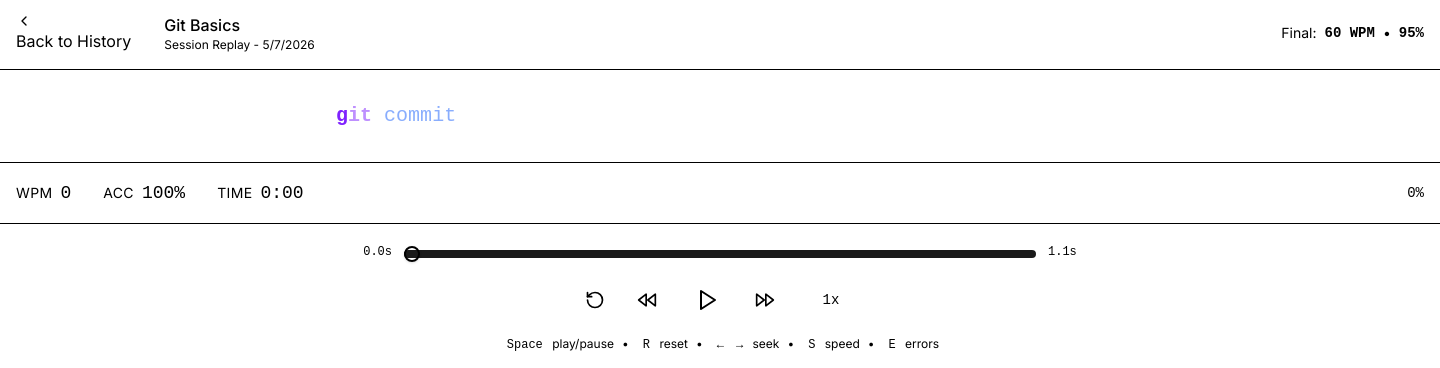
Test case: SessionReplay › playback controls › should toggle play/pause on button click
Click the button titled "Play (Space)" at [706, 300], box [681, 276, 731, 324]
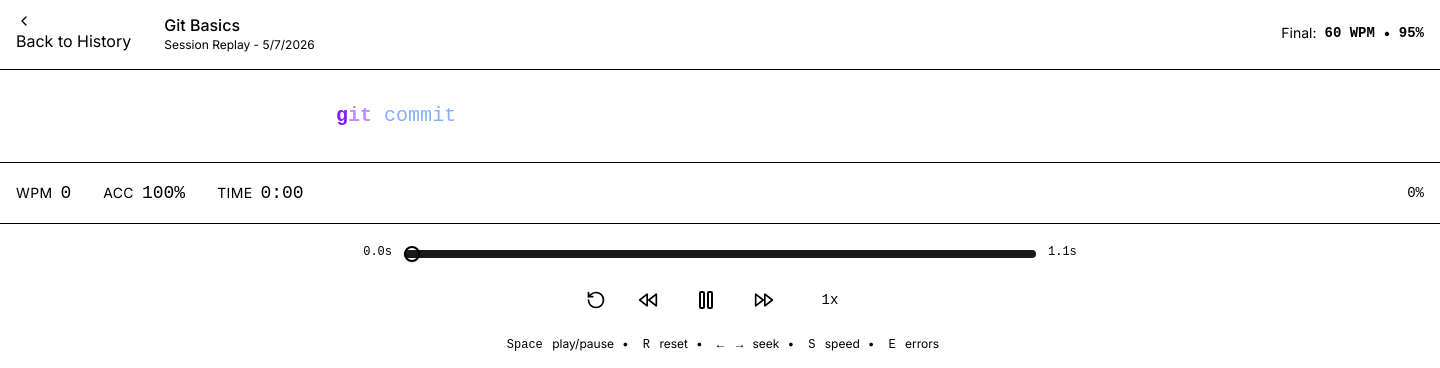
Expected: the button titled "Pause (Space)" is shown
Click the button titled "Pause (Space)" at [706, 300], box [682, 276, 730, 324]
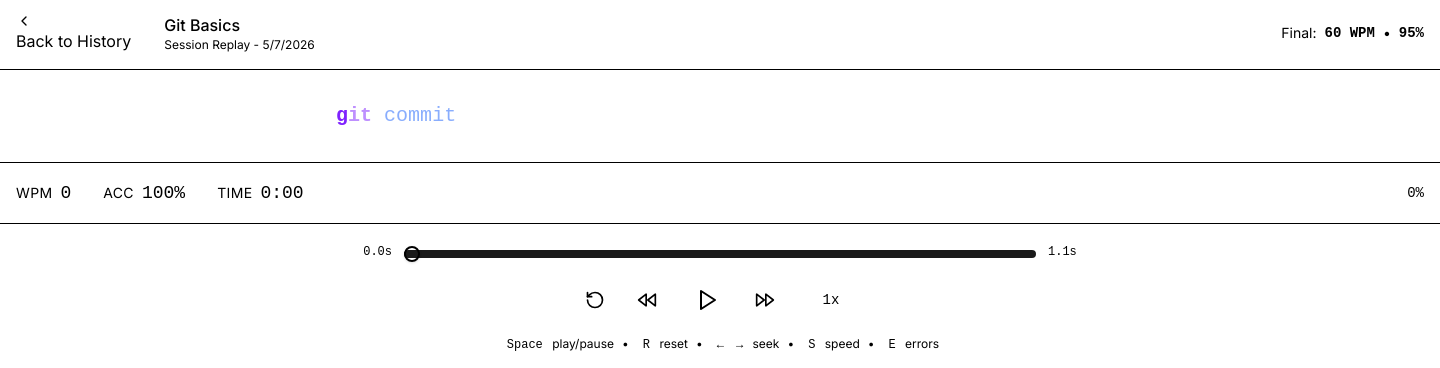
Expected: the button titled "Play (Space)" is shown, [681, 276, 731, 324]
